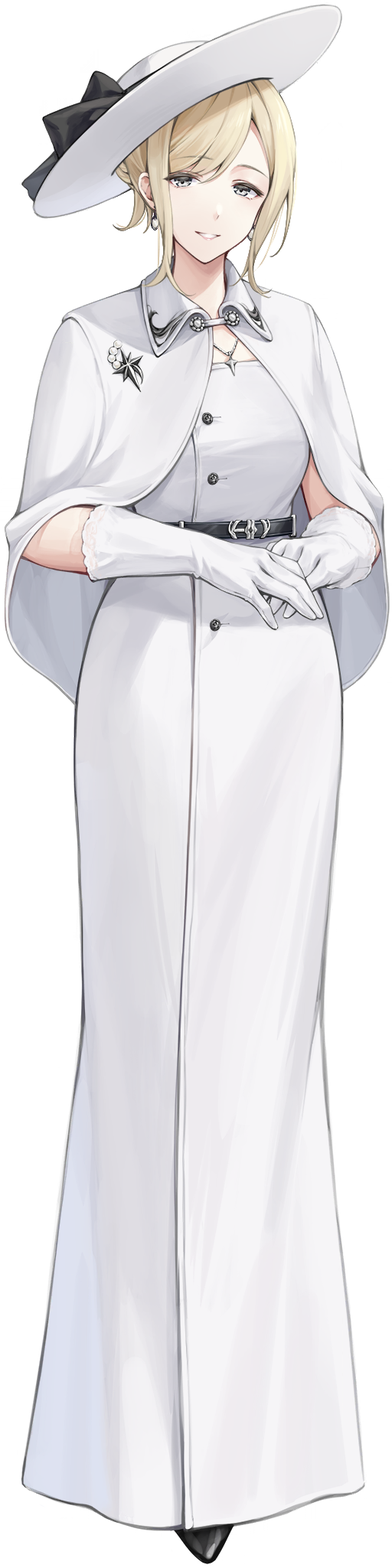person: (0, 2, 391, 1563)
